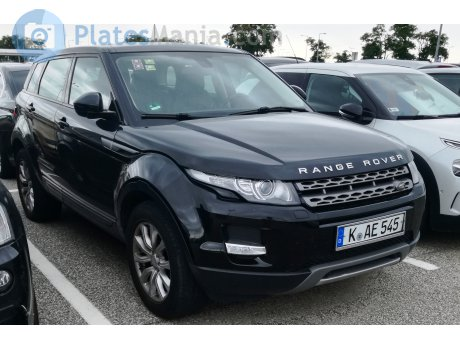License Plates: (367, 221, 403, 237)
